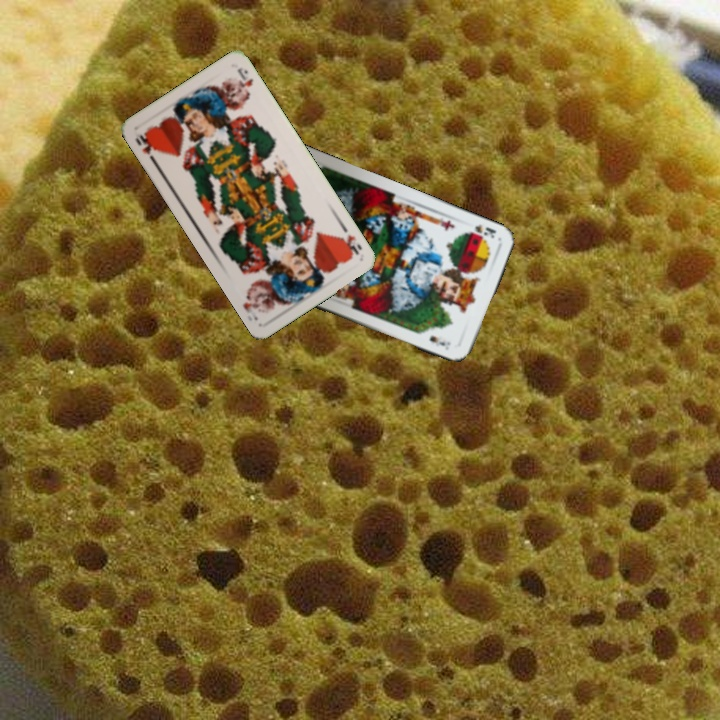HO: (335, 221, 365, 261), (131, 129, 159, 167)
SK: (471, 220, 499, 241)
